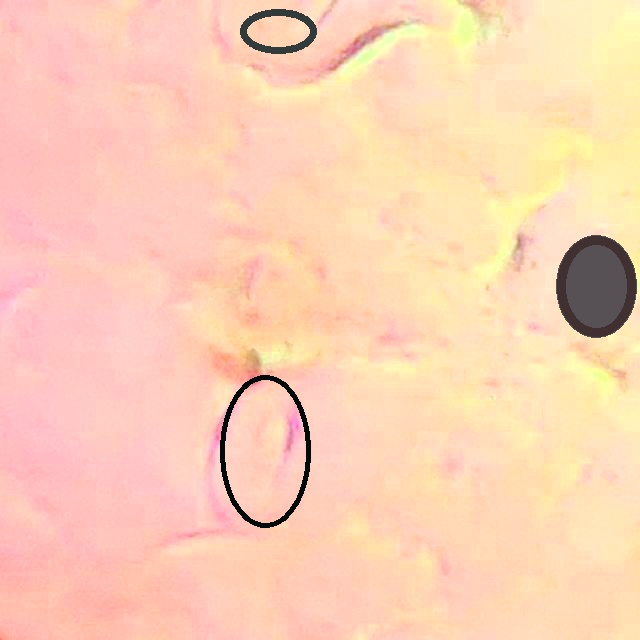close: (219, 374, 310, 528), (556, 234, 636, 337), (241, 9, 316, 53)
